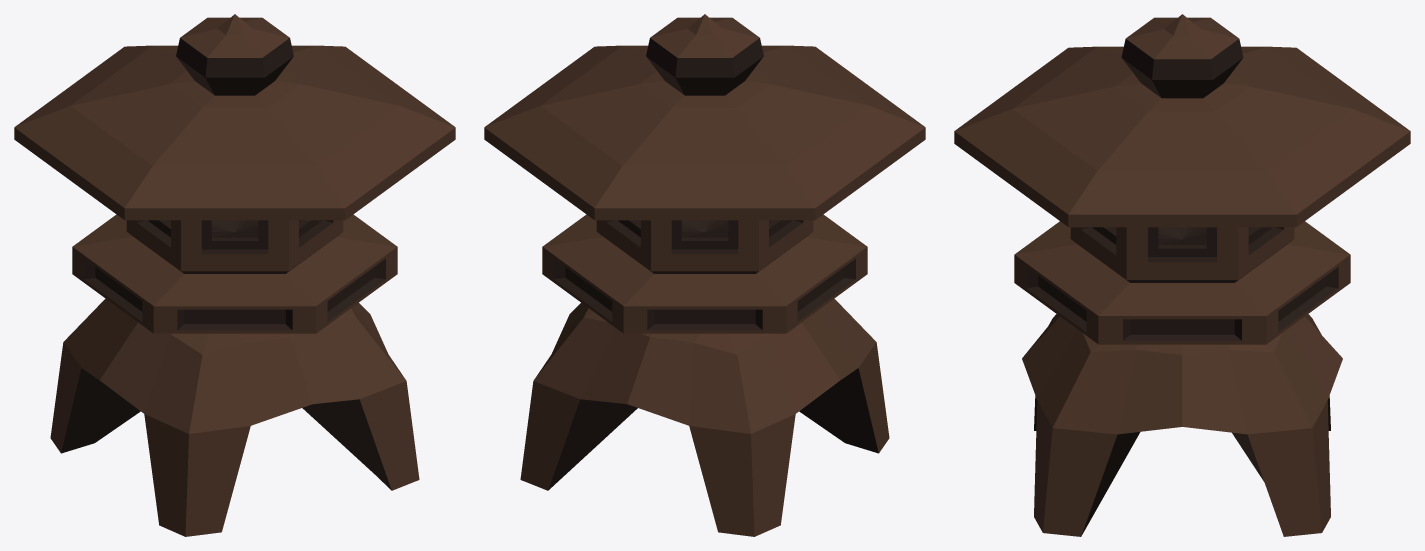
The model's file is brown-short-lantern.glb.
3 views of the same model, side by side, from view 1: azimuth 30°, elevation 25°; view 2: azimuth 150°, elevation 25°; view 3: azimuth 270°, elevation 25° (orthographic). The views are drawn at different scales.
Parts seen in each view (by area): view 1: OWnG_gardenLantern(YukimiDoro)_02; view 2: OWnG_gardenLantern(YukimiDoro)_02; view 3: OWnG_gardenLantern(YukimiDoro)_02.
Boxes of the visible parts, box(x1,y1,x2,y2) form: OWnG_gardenLantern(YukimiDoro)_02: box(14, 14, 455, 536); OWnG_gardenLantern(YukimiDoro)_02: box(484, 14, 925, 536); OWnG_gardenLantern(YukimiDoro)_02: box(954, 14, 1410, 536).
Bounding box in the file's own units: 2.46 × 3.16 × 2.84.
